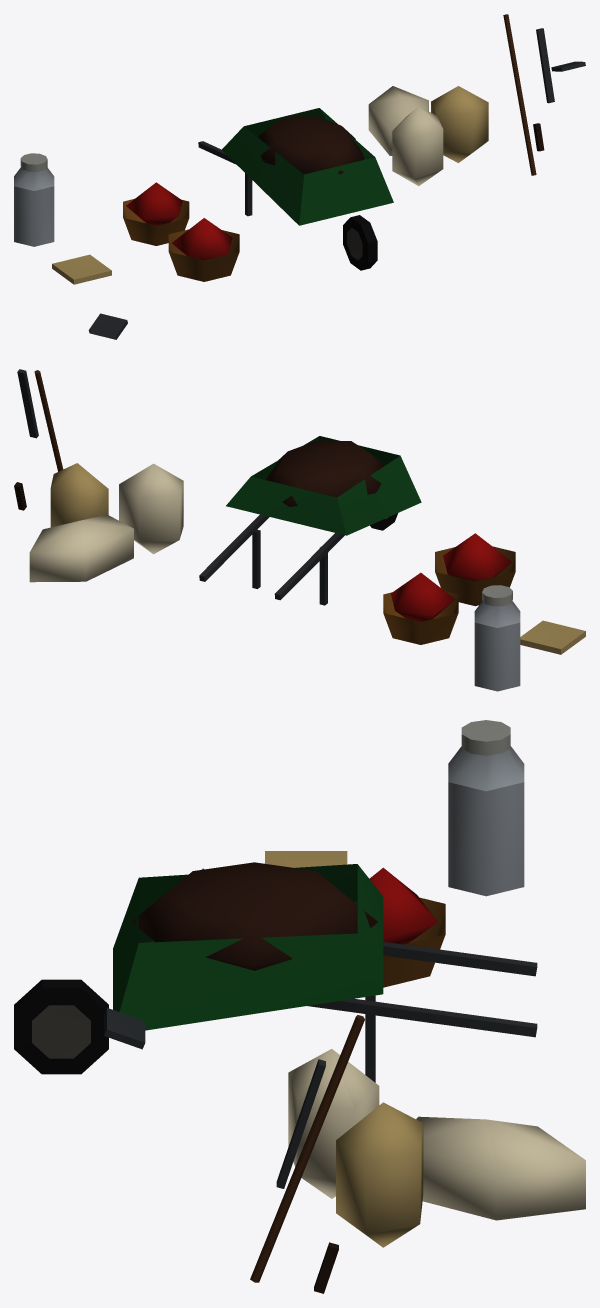
File: fm_tools_lod1.glb
The picture shows the model from 3 angles, top to bottom: view 1: azimuth 30°, elevation 25°; view 2: azimuth 150°, elevation 25°; view 3: azimuth 270°, elevation 25°; orthographic projection. The views are drawn at different scales.
Visible parts, largest first — view 1: fm_tools_lod1; view 2: fm_tools_lod1; view 3: fm_tools_lod1.
Boxes of the visible parts, x1,y1,x2,y2 form: fm_tools_lod1: (14,14,585,284); fm_tools_lod1: (14,313,585,691); fm_tools_lod1: (14,720,585,1293).
Size of the model in its own units: 4.09 by 1.16 by 2.22.
